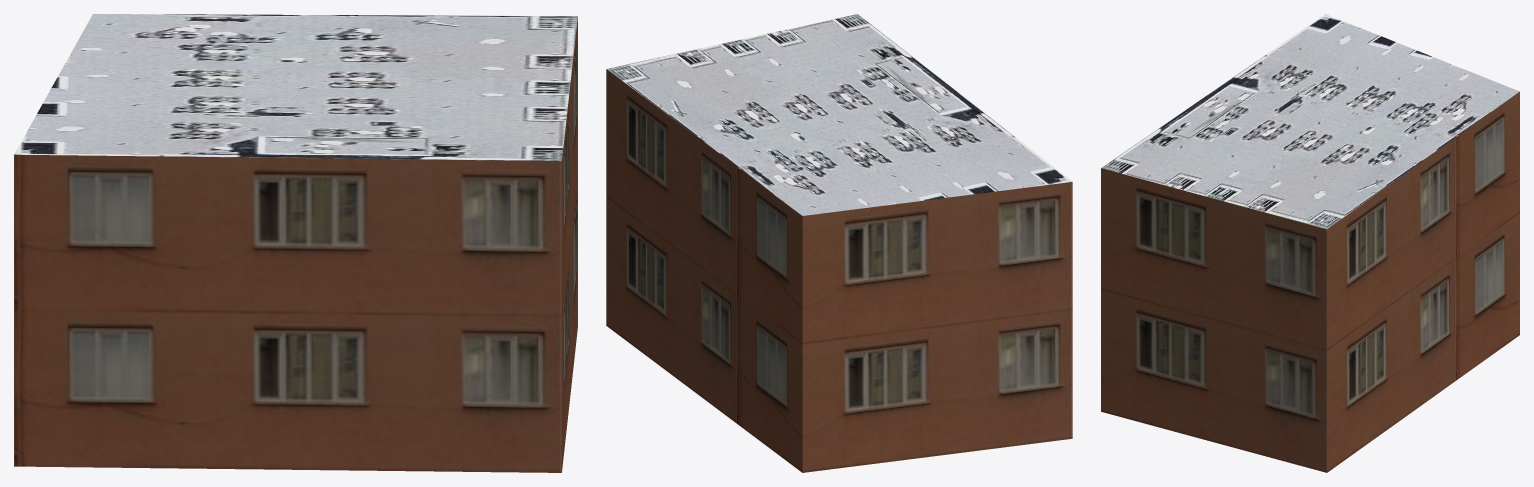
The model's file is ResTex__3911.fbx.
3 views of the same model, side by side, from view 1: azimuth 30°, elevation 25°; view 2: azimuth 150°, elevation 25°; view 3: azimuth 270°, elevation 25° (orthographic). The views are drawn at different scales.
Visible parts, largest first — view 1: CityEngineMaterial_20_m, CityEngineMaterial_m; view 2: CityEngineMaterial_20_m, CityEngineMaterial_m; view 3: CityEngineMaterial_20_m, CityEngineMaterial_m.
Boxes of the visible parts, <box> form: CityEngineMaterial_20_m: <box>14,16,577,472</box>; CityEngineMaterial_m: <box>14,14,577,161</box>; CityEngineMaterial_20_m: <box>606,69,1072,472</box>; CityEngineMaterial_m: <box>607,14,1072,215</box>; CityEngineMaterial_20_m: <box>1101,91,1519,472</box>; CityEngineMaterial_m: <box>1101,14,1519,229</box>.
Bounding box in the file's own units: 11.37 × 6 × 9.35.
Materials: 2 (2 with a texture image).
